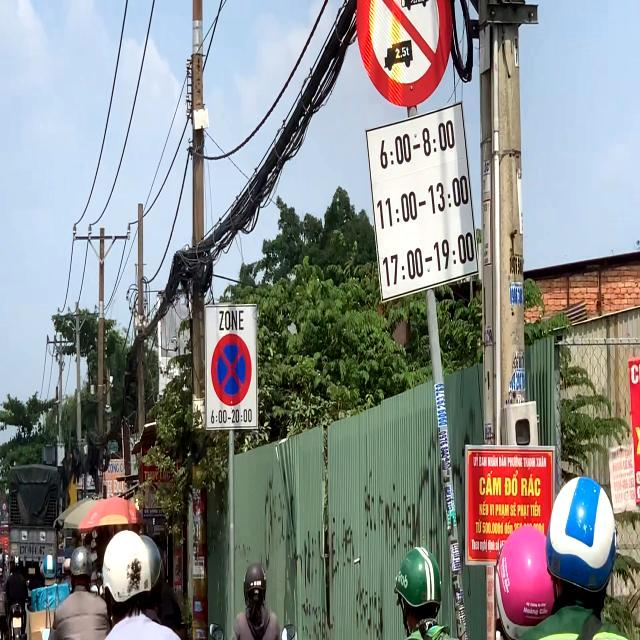Cam dung xe va do xe: (211, 334, 252, 406)
